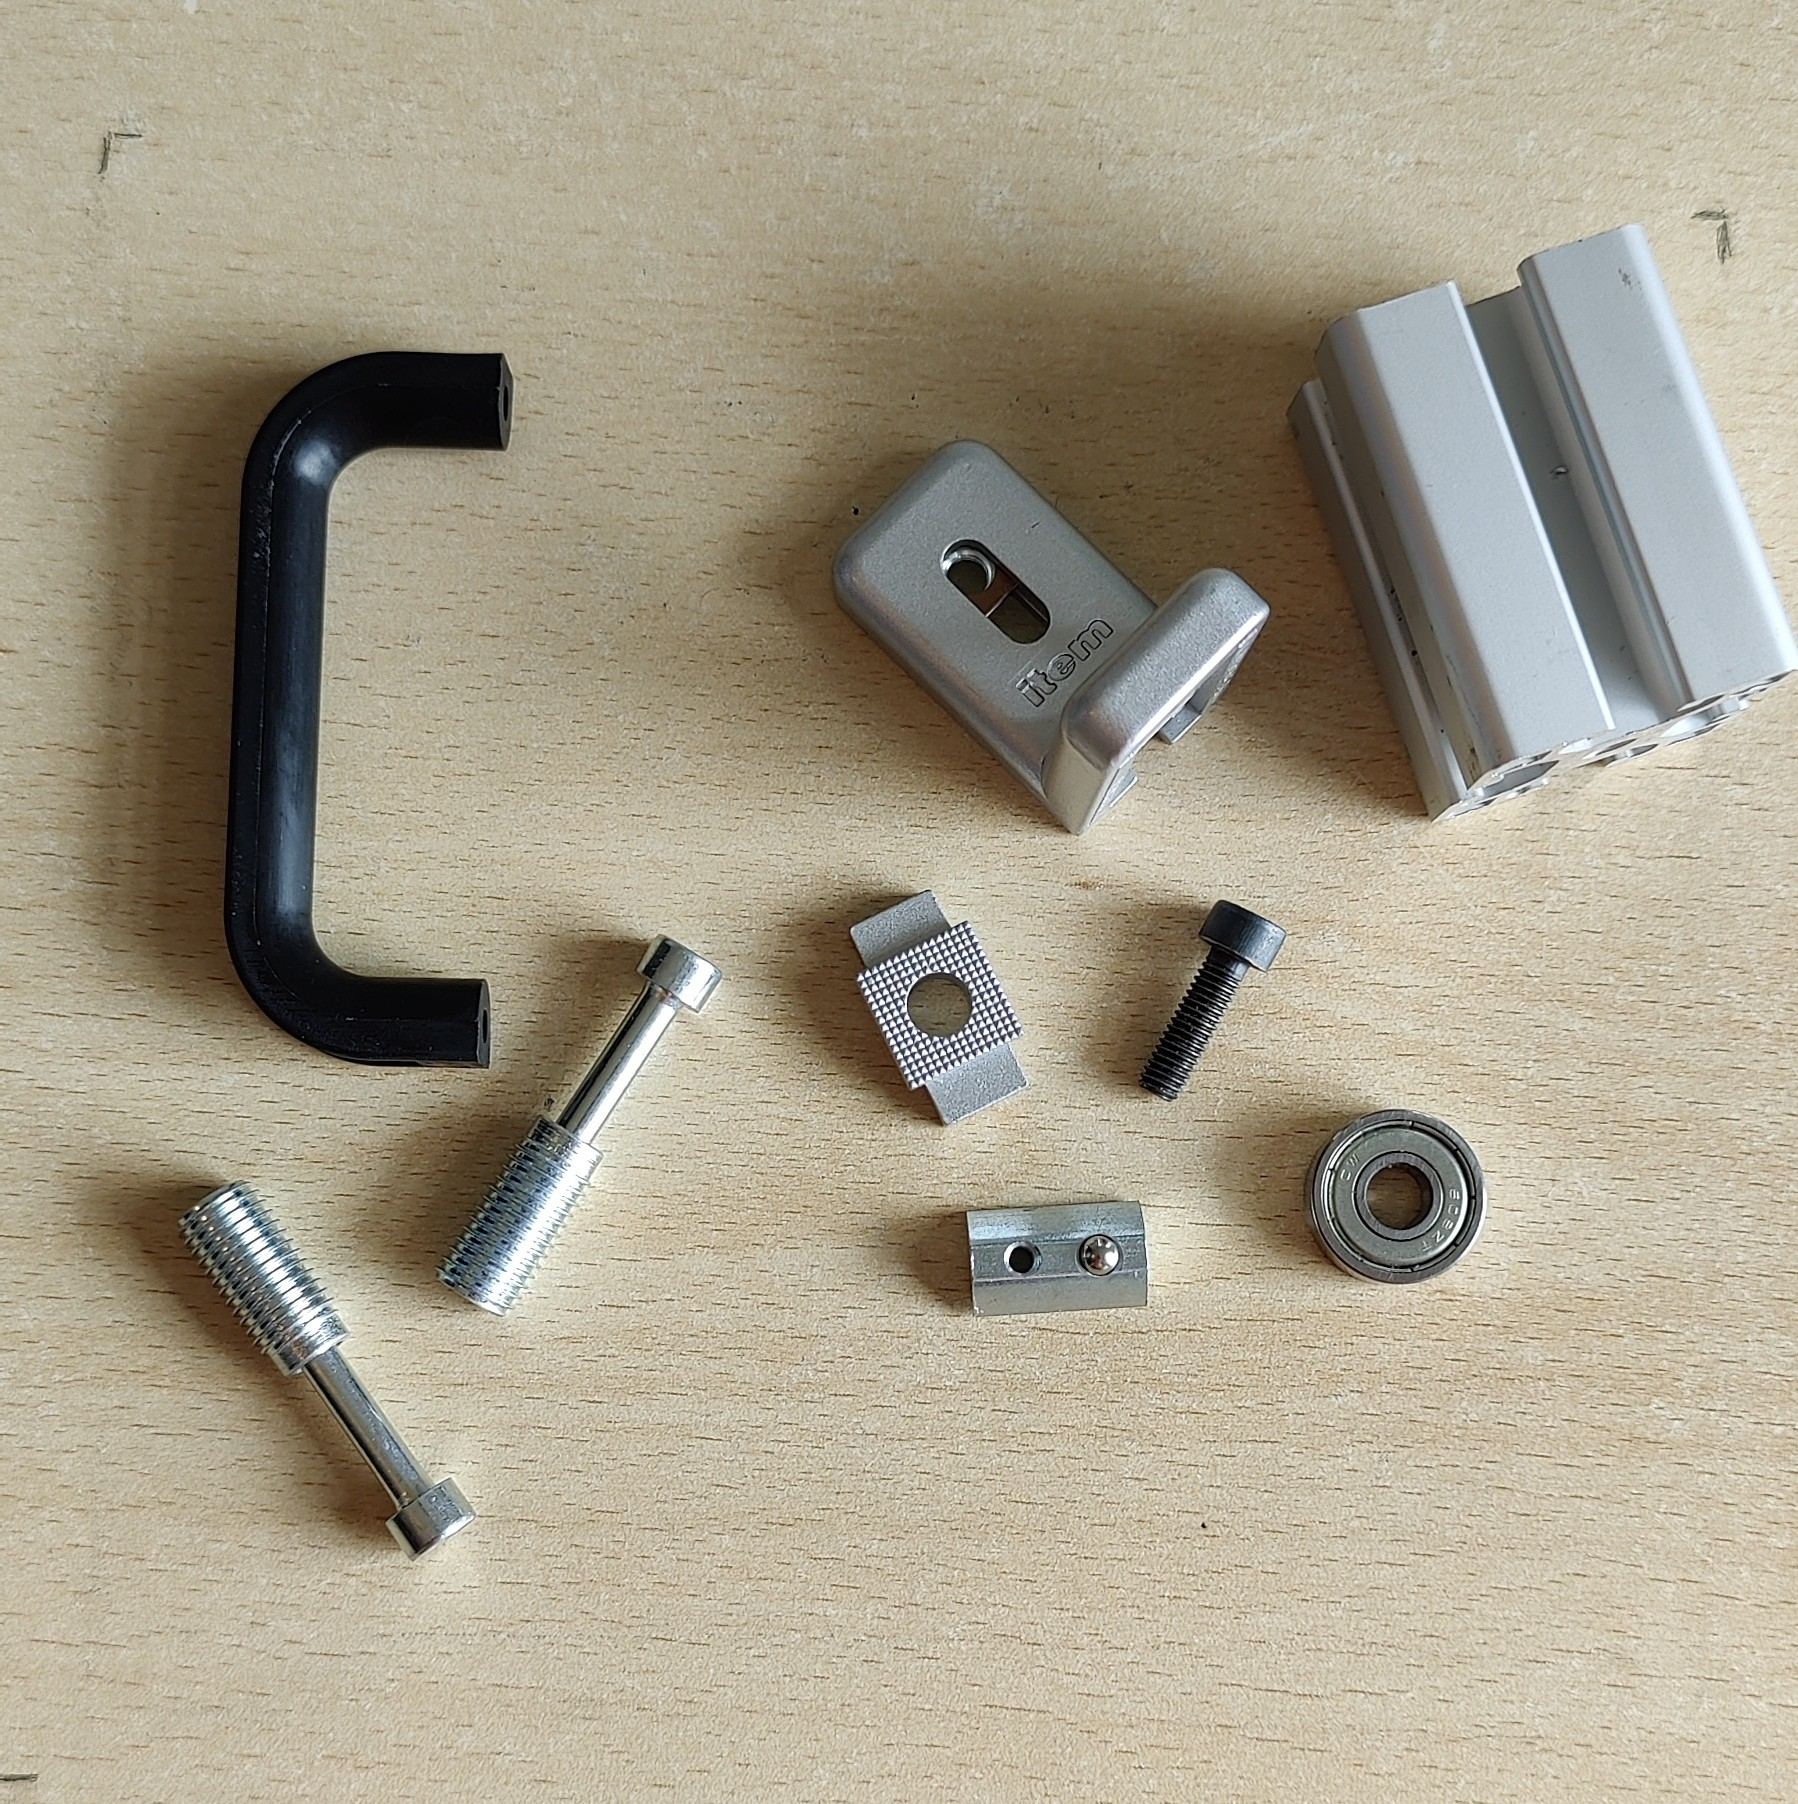Aluminium Extension: (1284, 224, 1798, 826)
Ball Bearing: (1301, 1106, 1490, 1289)
Multiwinkel: (828, 438, 1273, 838)
Pull Handle: (219, 349, 519, 1073)
Shoulder Socket Head Cap Screw: (179, 1177, 479, 1560), (433, 932, 726, 1320)
Socket Head Cap Screw: (1134, 897, 1286, 1106)
T Nut Square: (846, 886, 1036, 1127)
T Spring Nut: (962, 1195, 1154, 1322)
